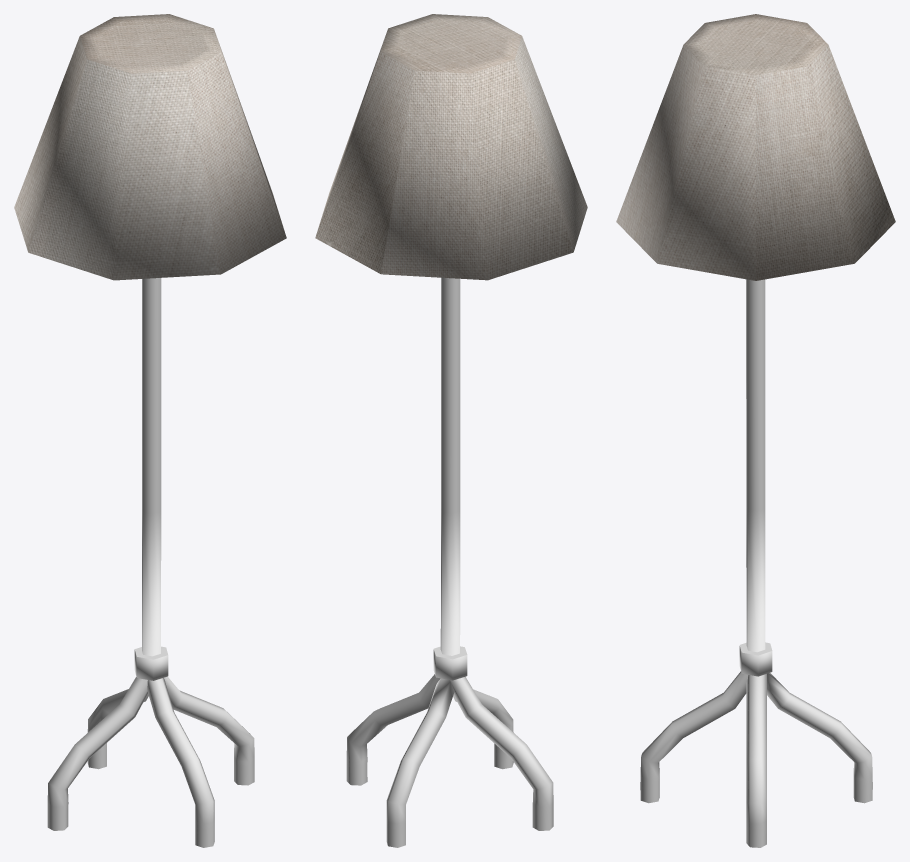
File: lamp.fbx
The picture shows the model from 3 angles, left to right: view 1: azimuth 30°, elevation 25°; view 2: azimuth 150°, elevation 25°; view 3: azimuth 270°, elevation 25°; orthographic projection.
Parts seen in each view (by area): view 1: Cone, BrassBase; view 2: Cone, BrassBase; view 3: Cone, BrassBase.
Part boxes in pixels (box(x1,y1,x2,y2)): Cone: box(14, 14, 286, 280); BrassBase: box(47, 278, 254, 847); Cone: box(315, 14, 587, 280); BrassBase: box(346, 277, 553, 847); Cone: box(616, 14, 895, 280); BrassBase: box(640, 279, 872, 847).
Size of the model in its own units: 0.7443 by 0.7443 by 2.21.
